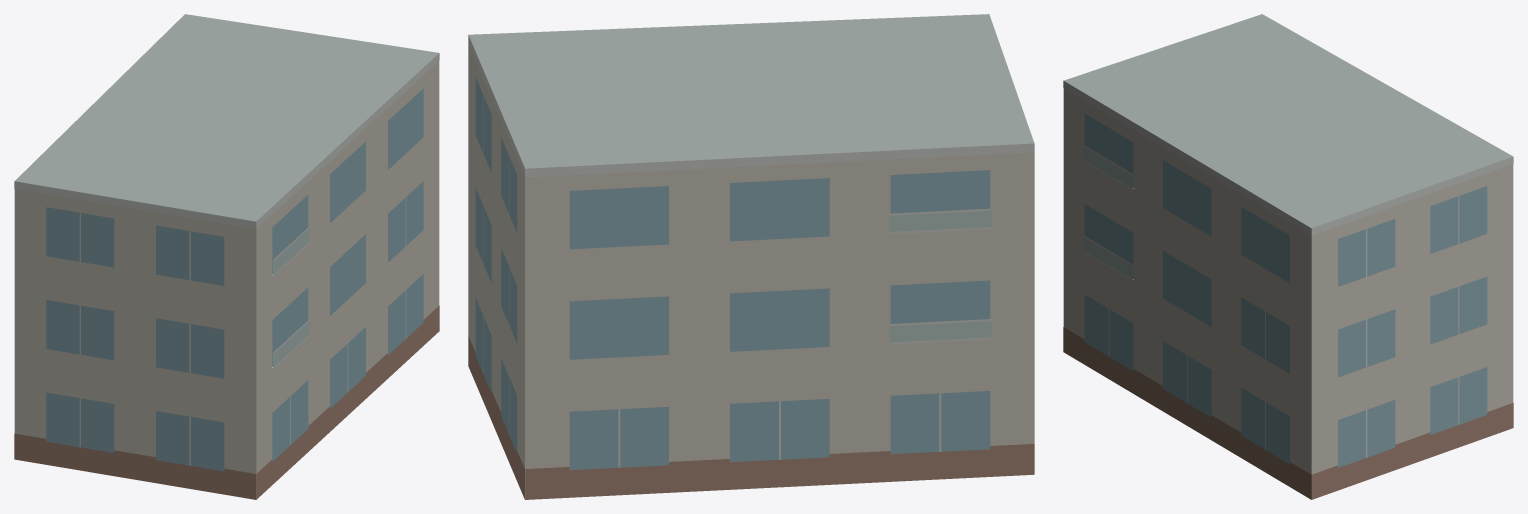
File: survey-upis-32681887.glb
3 views of the same model, side by side, from view 1: azimuth 30°, elevation 25°; view 2: azimuth 150°, elevation 25°; view 3: azimuth 270°, elevation 25° (orthographic). The views are drawn at different scales.
Parts seen in each view (by area): view 1: survey-upis-32681887.tmp; view 2: survey-upis-32681887.tmp; view 3: survey-upis-32681887.tmp.
Boxes of the visible parts, box(x1,y1,x2,y2) form: survey-upis-32681887.tmp: box(14, 14, 439, 499); survey-upis-32681887.tmp: box(468, 14, 1034, 499); survey-upis-32681887.tmp: box(1063, 14, 1513, 499).
Bounding box in the file's own units: 15.51 × 9.15 × 13.75.
